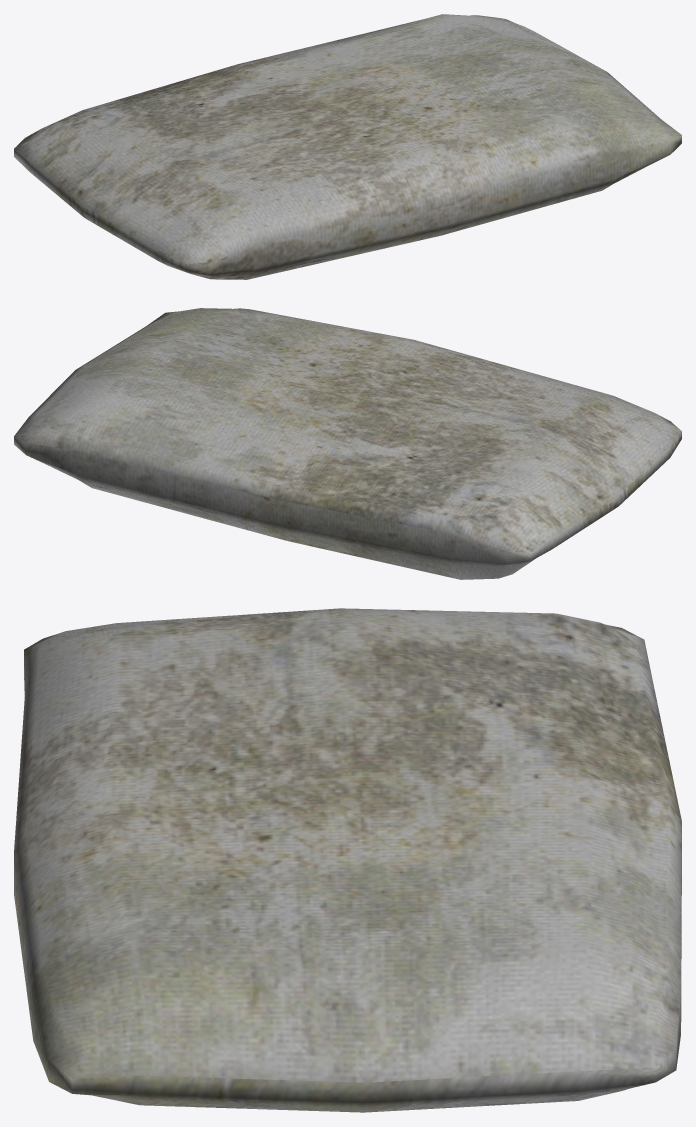
Rendered from Pillow.fbx.
The picture shows the model from 3 angles, top to bottom: view 1: azimuth 30°, elevation 25°; view 2: azimuth 150°, elevation 25°; view 3: azimuth 270°, elevation 25°; orthographic projection. The views are drawn at different scales.
Parts seen in each view (by area): view 1: Pillow; view 2: Pillow; view 3: Pillow.
Boxes of the visible parts, x1,y1,x2,y2 form: Pillow: (14,14,681,279); Pillow: (14,308,681,579); Pillow: (14,608,681,1112).
Size of the model in its own units: 0.9287 by 0.1642 by 0.5643.
